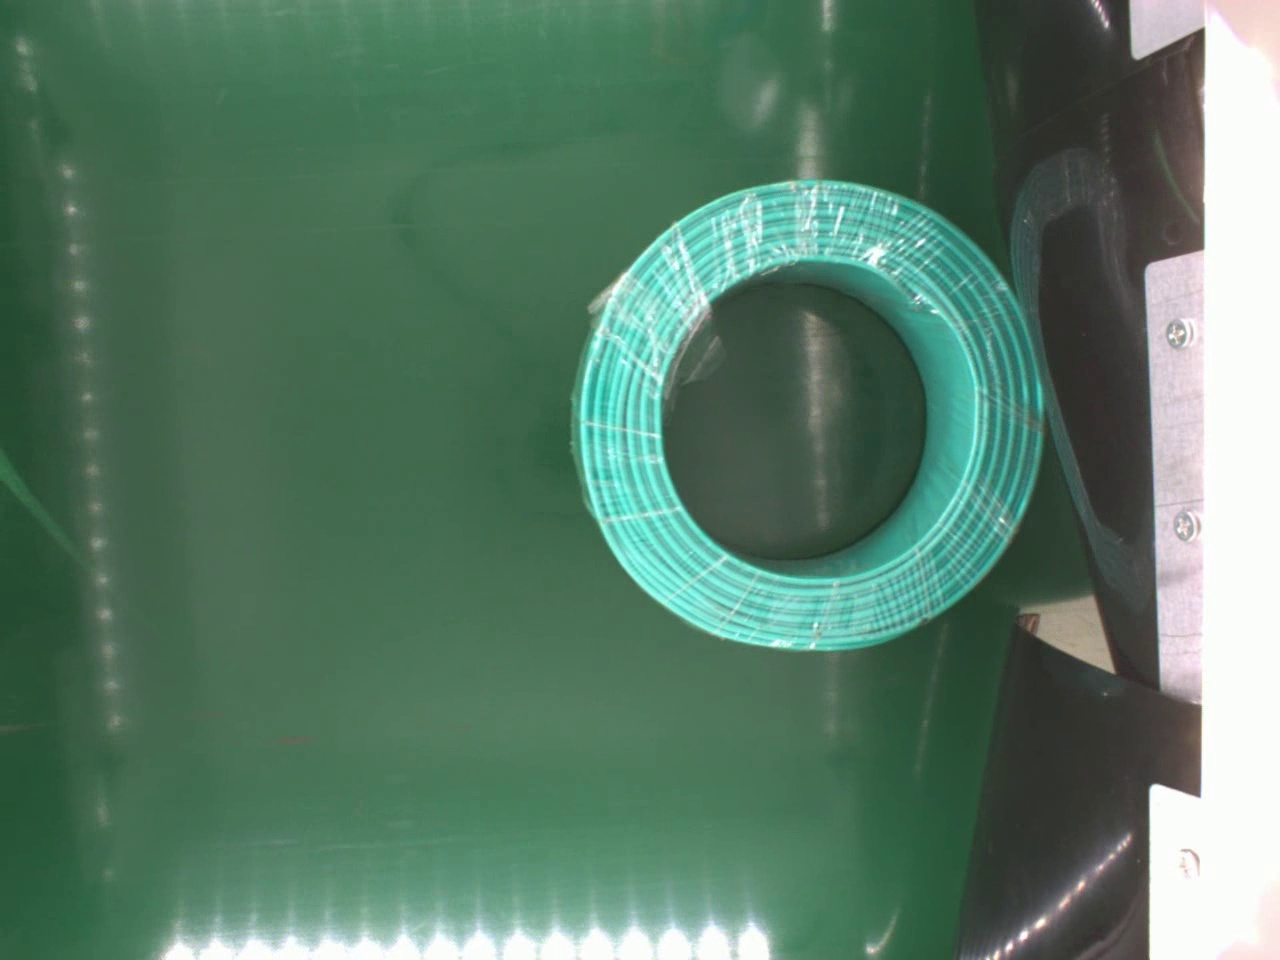green: (558, 174, 1049, 668)
